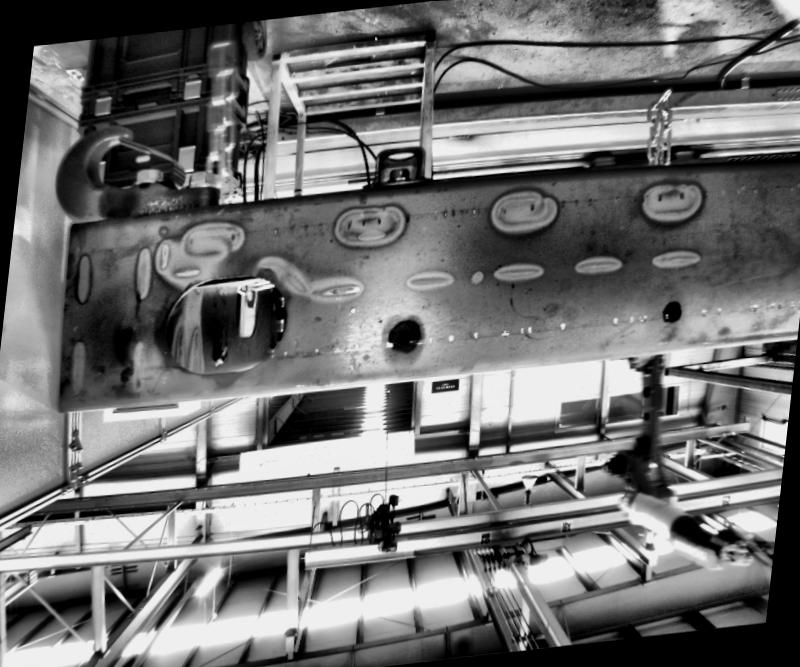bolt: (385, 164, 413, 184)
bracket: (349, 133, 446, 191)
hole: (148, 268, 300, 383), (393, 328, 414, 348), (667, 304, 681, 320)
